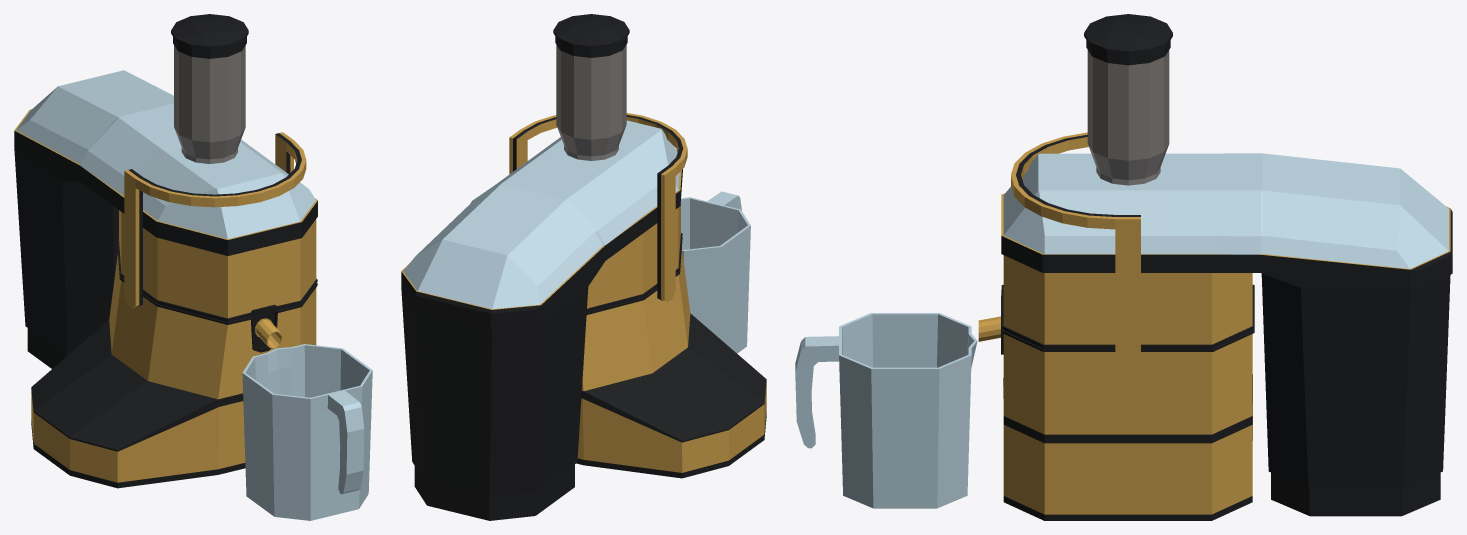
Rendered from juicermodern_01_D.gltf.
3 renders of one model, left to right at view 1: azimuth 30°, elevation 25°; view 2: azimuth 150°, elevation 25°; view 3: azimuth 270°, elevation 25°, orthographic. The views are drawn at different scales.
Parts seen in each view (by area): view 1: juicermodern_01_D, Glassforjuicermodern_01_D; view 2: juicermodern_01_D, Glassforjuicermodern_01_D; view 3: juicermodern_01_D, Glassforjuicermodern_01_D.
Part boxes in pixels (x1,y1,x2,y2): juicermodern_01_D: (14,14,317,488); Glassforjuicermodern_01_D: (242,344,372,520); juicermodern_01_D: (401,14,766,520); Glassforjuicermodern_01_D: (681,191,750,353); juicermodern_01_D: (978,14,1452,520); Glassforjuicermodern_01_D: (795,313,977,508).
Size of the model in its own units: 0.3298 by 0.5278 by 0.694.
Materials: 1 (1 with a texture image).
